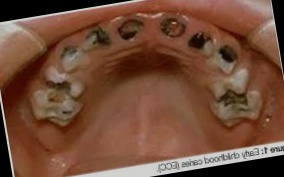Caries: (152, 5, 215, 62), (81, 17, 147, 52), (210, 85, 257, 123), (41, 73, 80, 109), (56, 40, 93, 60), (213, 42, 238, 67)
